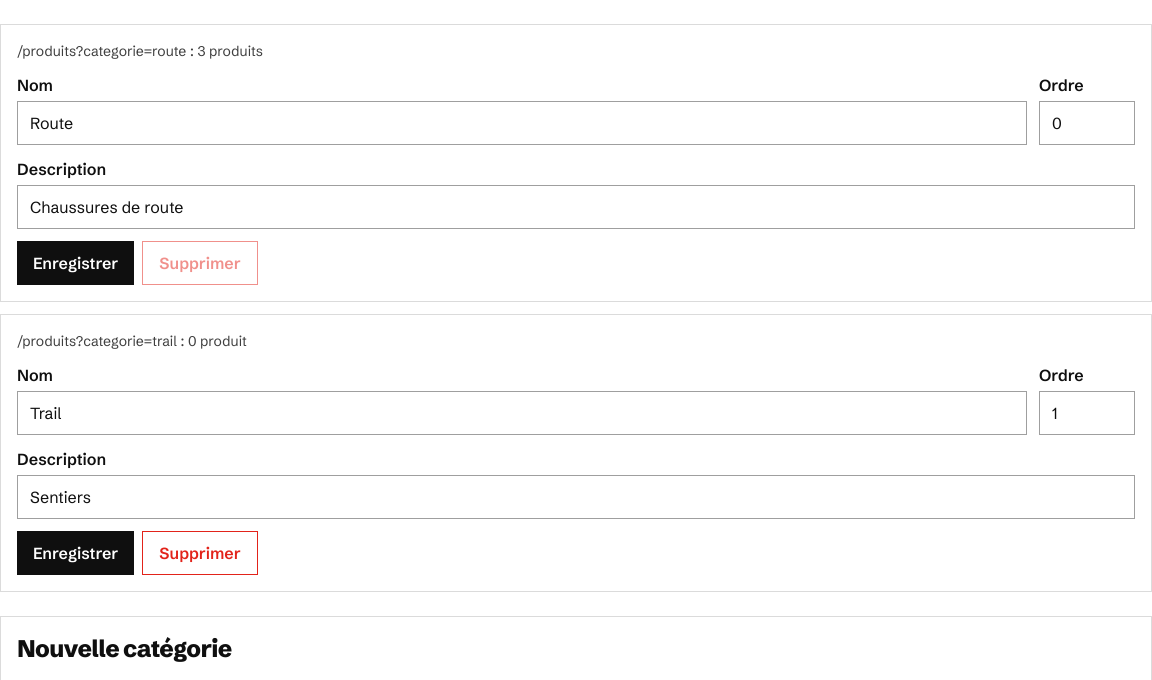
Test case: CategoryManager (EA03) › modification refusée par l'API : erreur affichée
The image size is (1152, 680).
Step 1. Type " bis" into the field with id "description-c2" → [576, 497], box [17,475,1135,519]
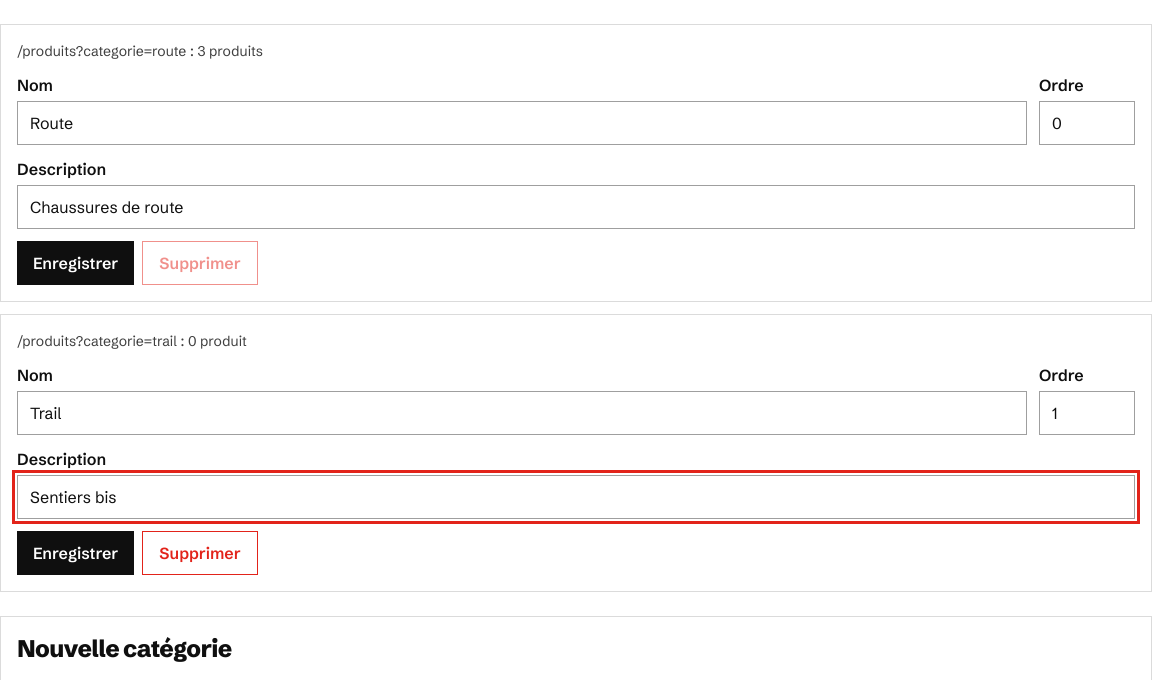
Step 2. Click the button "Enregistrer" below "trail" → [76, 553], box [17,531,134,575]
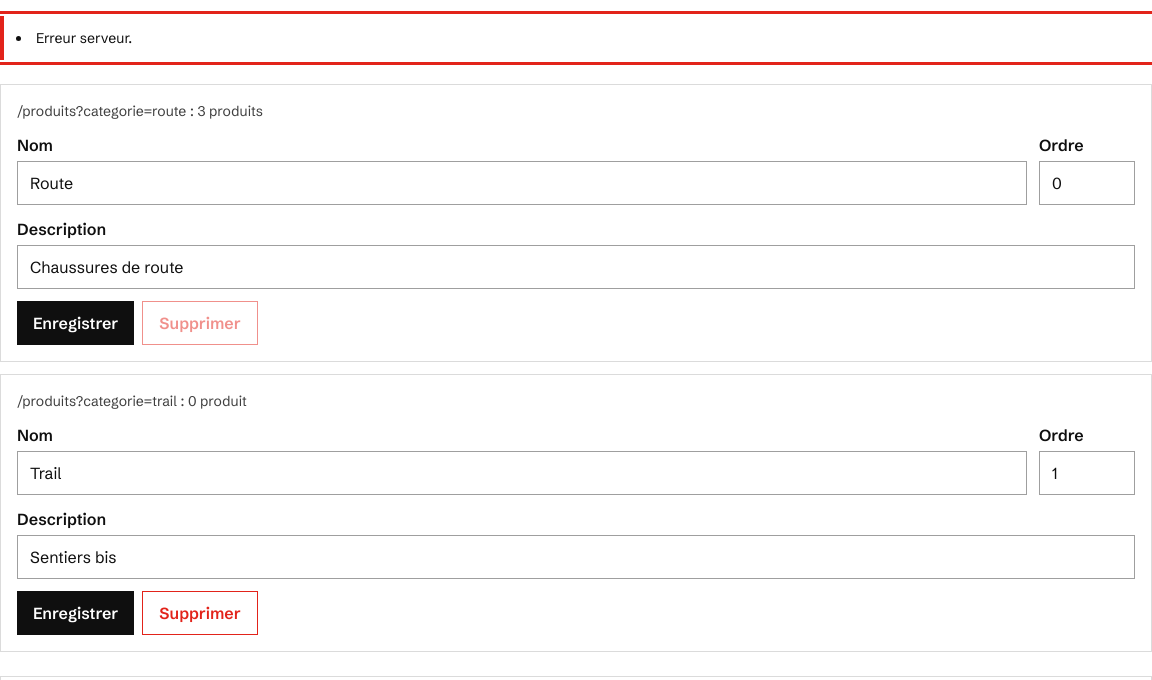
Expected: the message reads "Erreur serveur.", [36,29,132,47]
